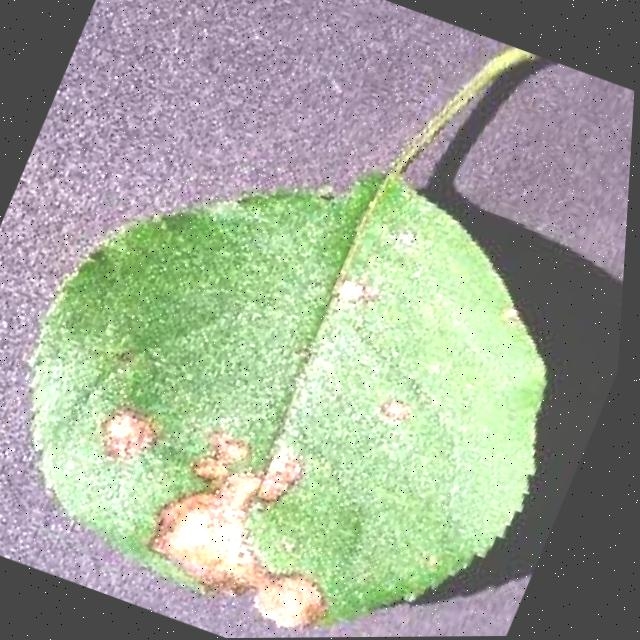black_rot: (126, 410, 396, 639), (78, 387, 179, 483), (313, 251, 403, 336), (363, 381, 430, 444)
